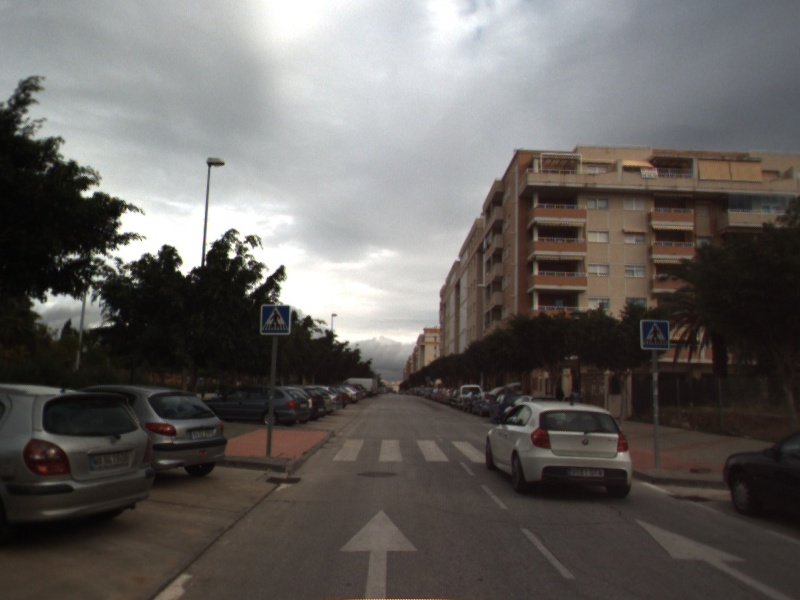STRAIGHT: (634, 517, 798, 600), (336, 507, 420, 600)
